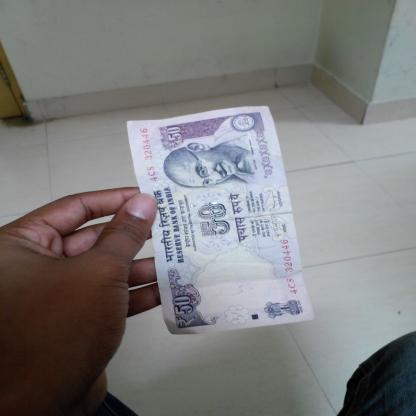Old50Front: (127, 106, 314, 335)
